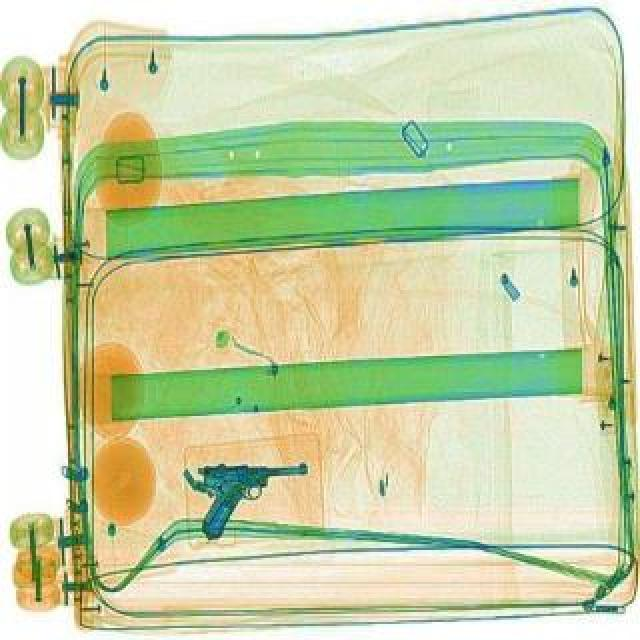gun: (196, 458, 310, 538)
